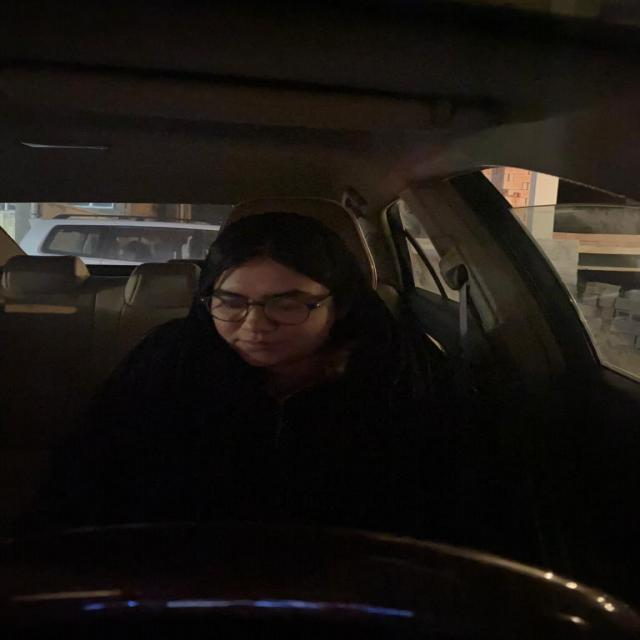drowsy: (190, 210, 362, 372)
